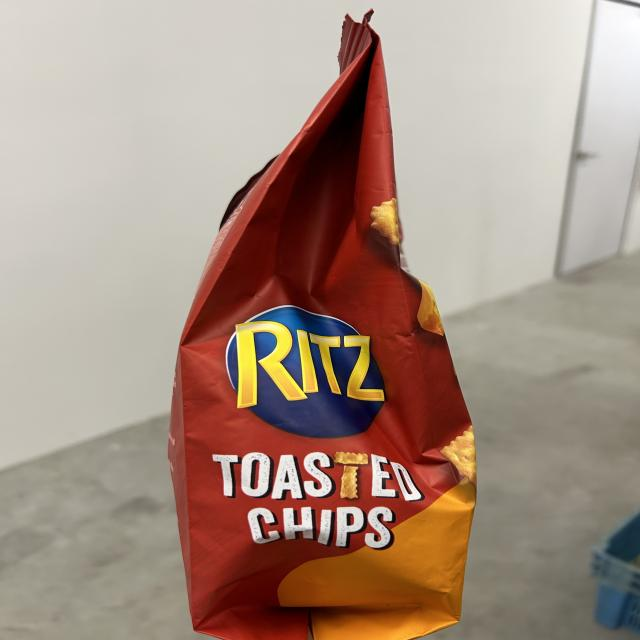object_name: (178, 24, 470, 636)
